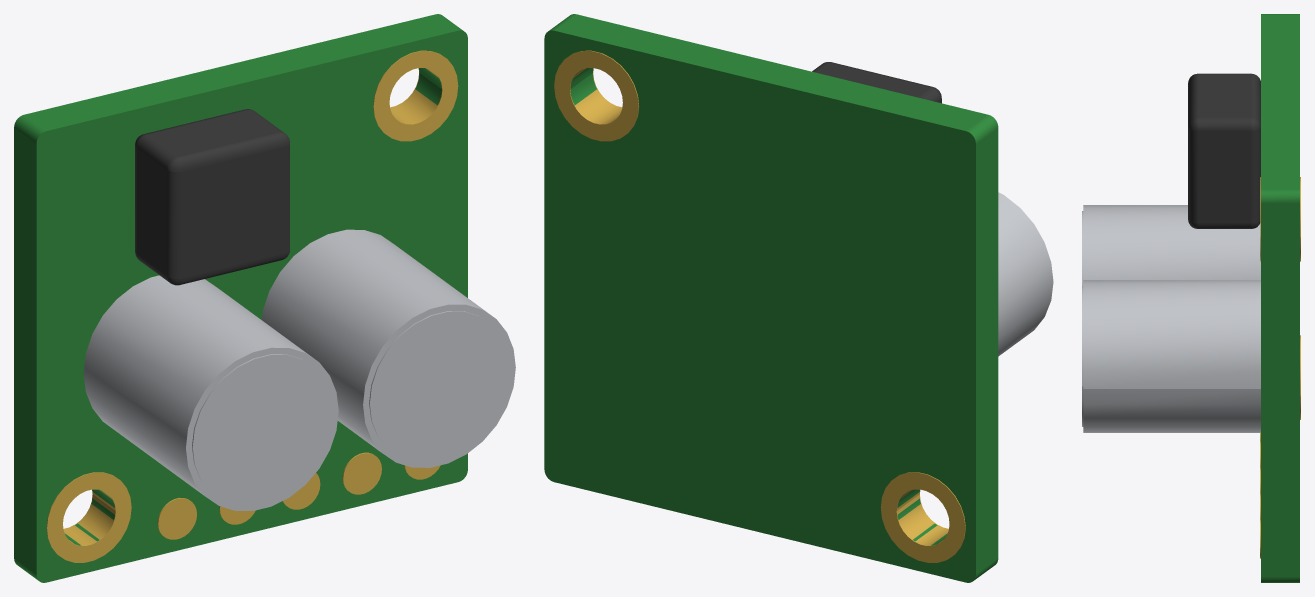
The model's file is pololu-2850-d24v25f5.glb.
3 views of the same model, side by side, from view 1: azimuth 30°, elevation 25°; view 2: azimuth 150°, elevation 25°; view 3: azimuth 270°, elevation 25° (orthographic). The views are drawn at different scales.
Parts seen in each view (by area): view 1: board, elcap_3, inductor_2, elcap_4, elcap_4_top, elcap_3_top, hole_1, hole_2, pads_1_4, pads_1_1, pads_1_3; view 2: board, elcap_3, hole_1, hole_2, inductor_2; view 3: elcap_4, board, elcap_3, inductor_2.
Boxes of the visible parts, box(x1,y1,x2,y2) form: board: box(14, 14, 467, 582); elcap_3: box(83, 275, 338, 510); inductor_2: box(135, 109, 289, 285); elcap_4: box(262, 229, 515, 467); elcap_4_top: box(369, 311, 510, 461); elcap_3_top: box(192, 354, 333, 504); hole_1: box(46, 472, 131, 562); hole_2: box(373, 50, 458, 141); pads_1_4: box(342, 452, 381, 494); pads_1_1: box(157, 497, 196, 539); pads_1_3: box(283, 473, 320, 509); board: box(544, 14, 998, 582); elcap_3: box(998, 192, 1053, 356); hole_1: box(880, 472, 965, 562); hole_2: box(554, 50, 639, 141); inductor_2: box(812, 62, 941, 103); elcap_4: box(1083, 280, 1260, 432); board: box(1261, 14, 1299, 582); elcap_3: box(1083, 205, 1260, 279); inductor_2: box(1188, 73, 1260, 228).
Size of the model in its own units: 17.78 by 17.78 by 8.98.
